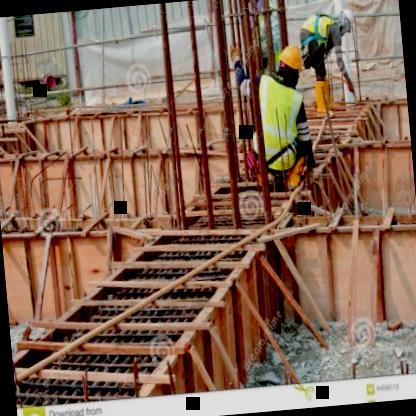helmet: (276, 42, 306, 80), (336, 5, 358, 33)
